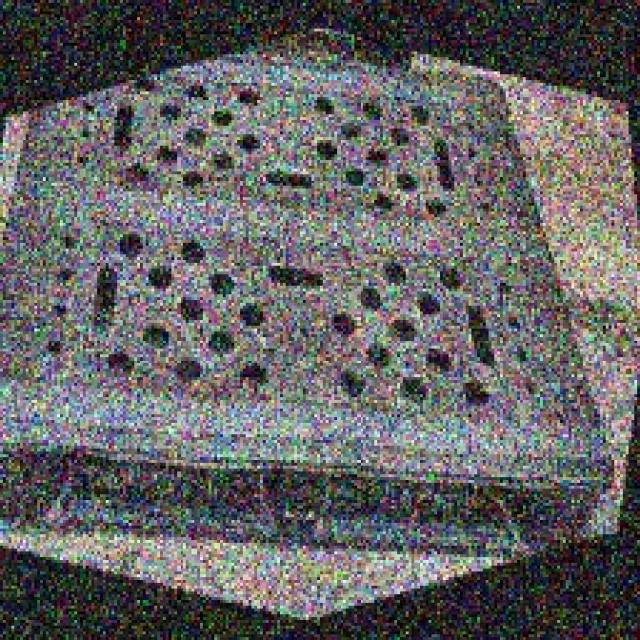igps: (0, 38, 622, 570)
